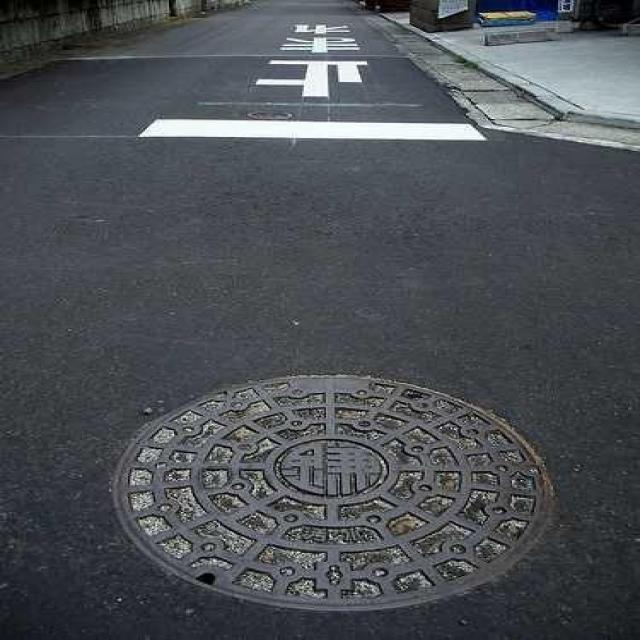manhole: (113, 375, 552, 609)
